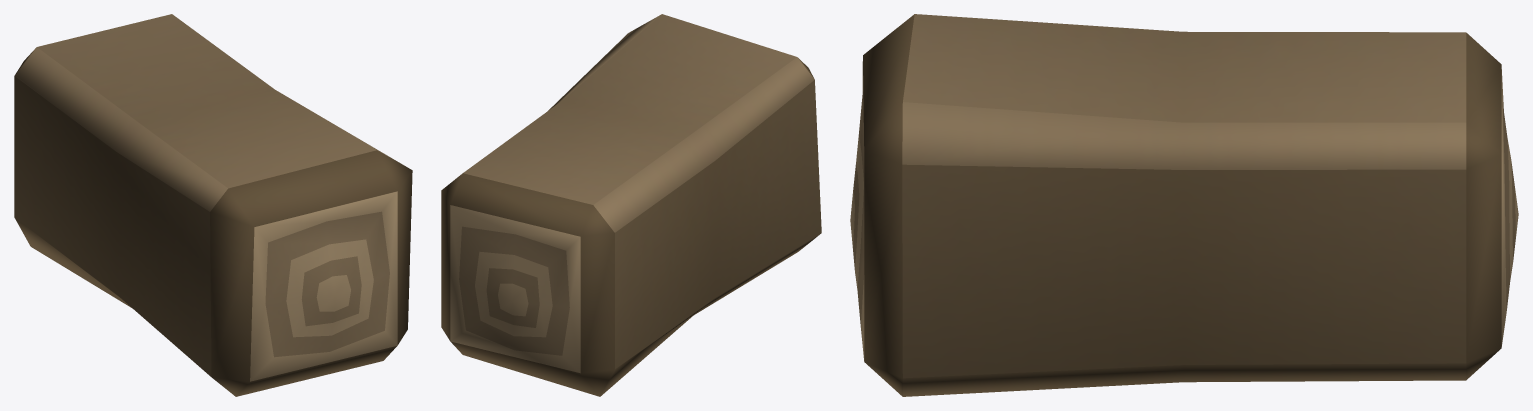
File: wall_beam_large.fbx
The picture shows the model from 3 angles, left to right: view 1: azimuth 30°, elevation 25°; view 2: azimuth 150°, elevation 25°; view 3: azimuth 270°, elevation 25°; orthographic projection. The views are drawn at different scales.
Parts seen in each view (by area): view 1: wall_beam_large; view 2: wall_beam_large; view 3: wall_beam_large.
Boxes of the visible parts, left/top/right/bottom form: wall_beam_large: left=14, top=14, right=412, bottom=396; wall_beam_large: left=441, top=14, right=821, bottom=396; wall_beam_large: left=850, top=14, right=1518, bottom=396.
Size of the model in its own units: 43.12 by 43.56 by 90.79.
